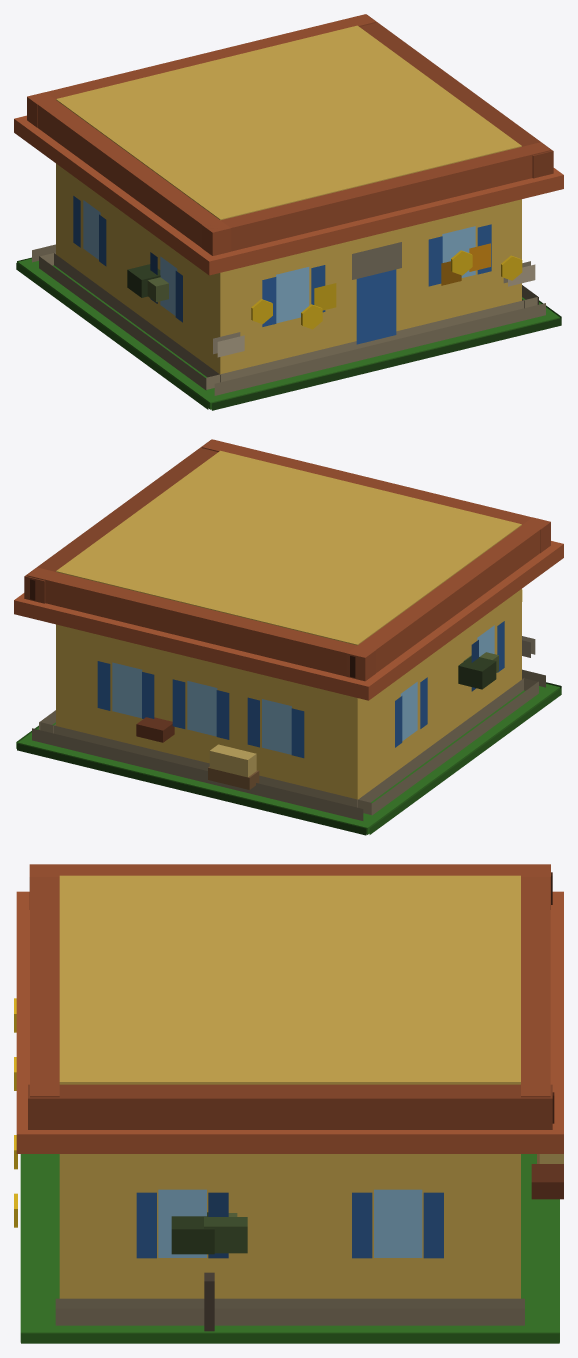
File: SunflowersSil.fbx
3 renders of one model, top to bottom at view 1: azimuth 30°, elevation 25°; view 2: azimuth 150°, elevation 25°; view 3: azimuth 270°, elevation 25°, orthographic. The views are drawn at different scales.
Visible parts, largest first — view 1: SF_S_All; view 2: SF_S_All; view 3: SF_S_All.
Boxes of the visible parts, left/top/right/bottom form: SF_S_All: left=14, top=14, right=563, bottom=410; SF_S_All: left=14, top=439, right=563, bottom=835; SF_S_All: left=14, top=864, right=563, bottom=1343.
Bounding box in the file's own units: 42.64 × 20 × 40.84.
